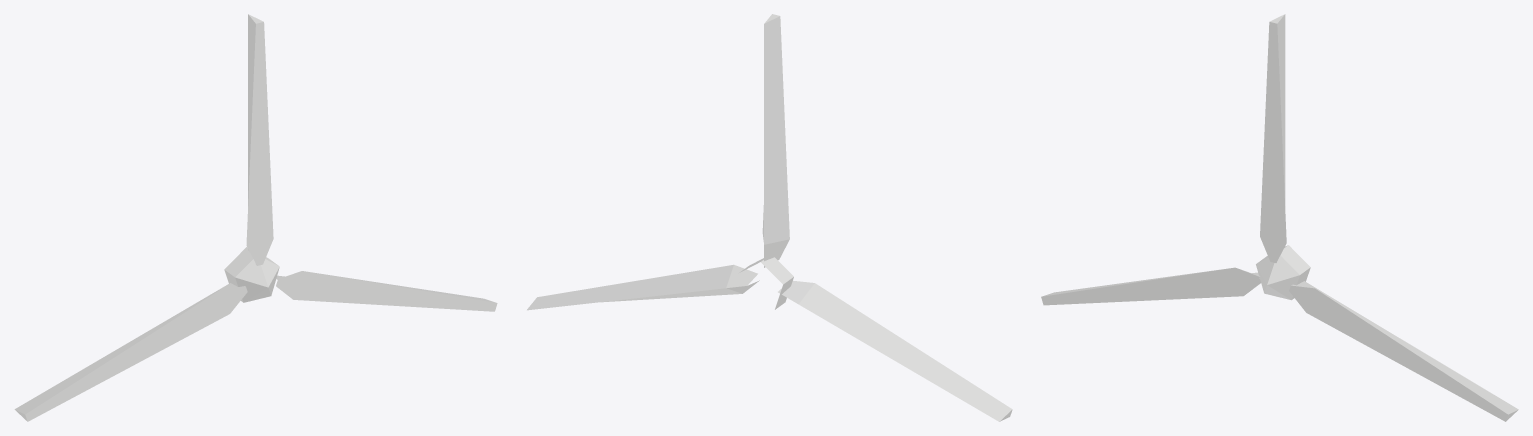
File: windmill-propeller.glb
3 views of the same model, side by side, from view 1: azimuth 30°, elevation 25°; view 2: azimuth 150°, elevation 25°; view 3: azimuth 330°, elevation 25° (orthographic).
Parts seen in each view (by area): view 1: windmill-propeller; view 2: windmill-propeller; view 3: windmill-propeller.
Part boxes in pixels (x1,y1,x2,y2): windmill-propeller: (14, 14, 497, 421); windmill-propeller: (527, 14, 1012, 421); windmill-propeller: (1041, 14, 1518, 421).
Size of the model in its own units: 8.06 by 5.65 by 0.6438.
1 material, 1 textured.
